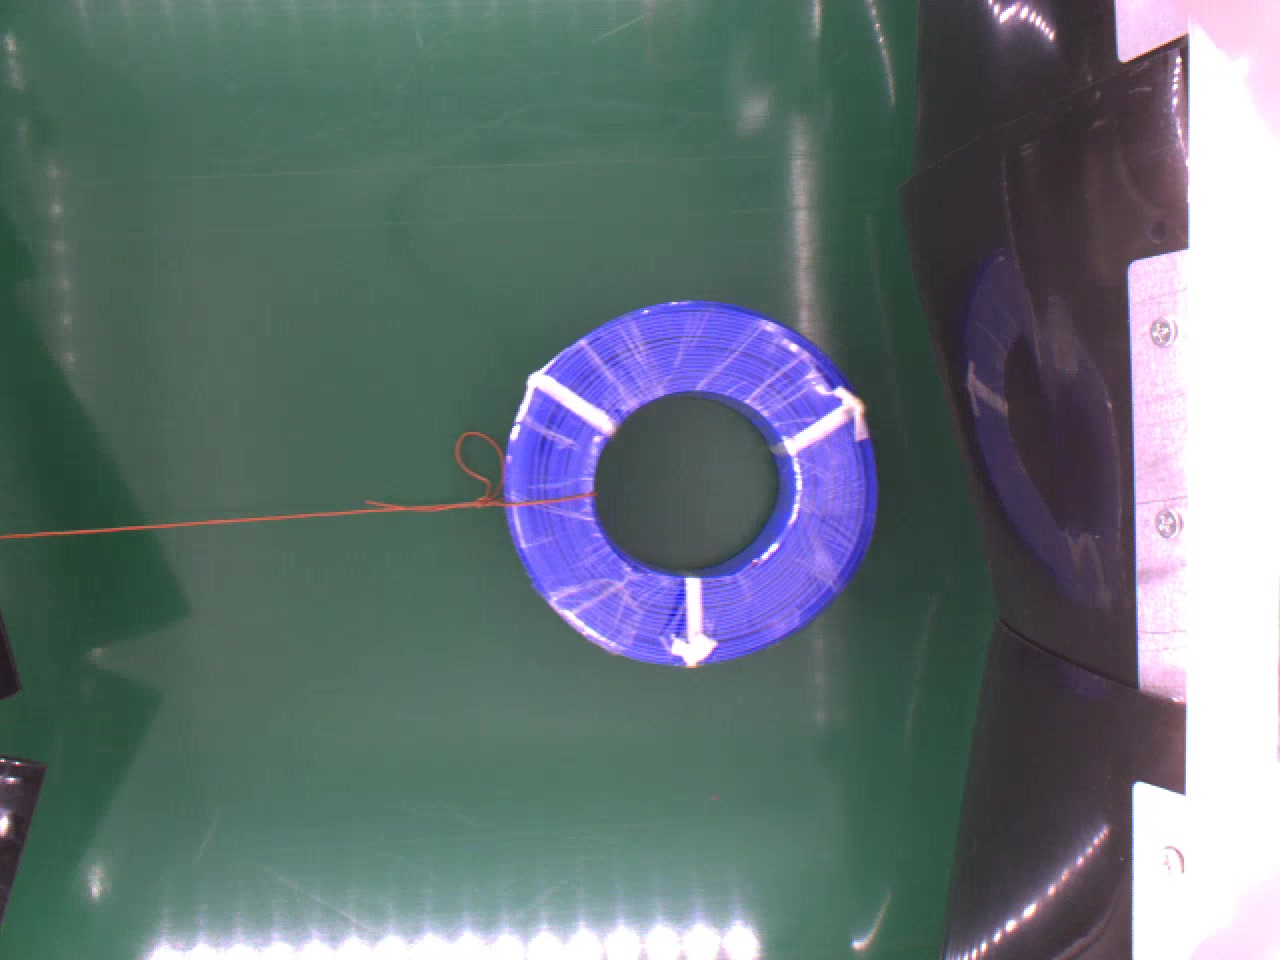blue: (499, 298, 879, 667)
